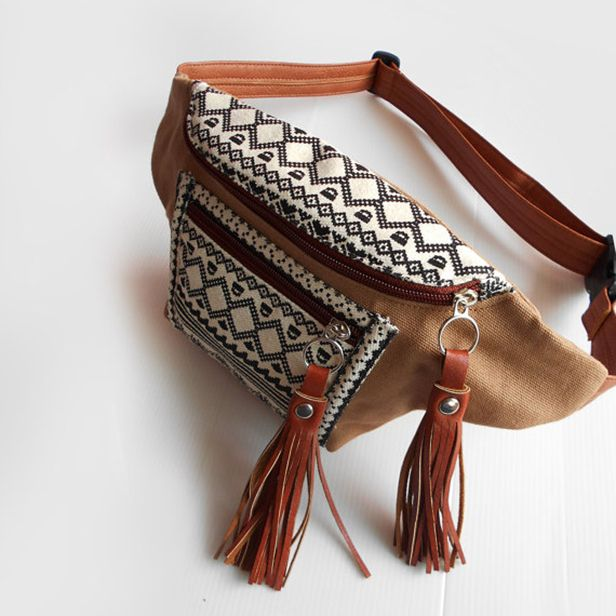cuero: (212, 350, 471, 591)
